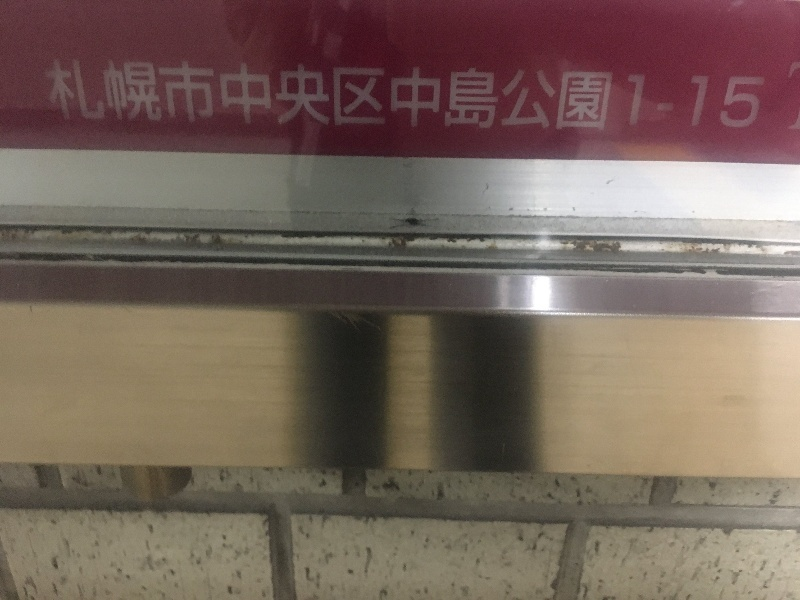text: (49, 58, 64, 132), (65, 58, 80, 132), (81, 58, 96, 132), (97, 58, 112, 132), (113, 58, 128, 132), (129, 58, 144, 132), (145, 58, 160, 132), (161, 58, 176, 132), (177, 58, 192, 132), (193, 58, 208, 132), (209, 58, 224, 132), (225, 58, 240, 132), (241, 58, 256, 132), (257, 58, 272, 132), (273, 58, 288, 132), (289, 58, 304, 132), (305, 58, 320, 132), (321, 58, 336, 132), (337, 58, 352, 132), (353, 58, 368, 132), (369, 58, 384, 132), (385, 58, 400, 132), (401, 58, 416, 132), (417, 58, 432, 132), (433, 58, 448, 132), (449, 58, 464, 132), (465, 58, 480, 132), (481, 58, 496, 132), (497, 58, 512, 132), (513, 58, 528, 132), (529, 58, 544, 132), (545, 58, 560, 132), (561, 58, 576, 132), (577, 58, 592, 132), (593, 58, 608, 132), (609, 58, 624, 132), (625, 58, 640, 132), (641, 58, 656, 132), (657, 58, 672, 132), (673, 58, 688, 132), (689, 58, 704, 132), (705, 58, 720, 132), (721, 58, 736, 132), (737, 58, 752, 132), (753, 58, 768, 132), (45, 58, 48, 132)
